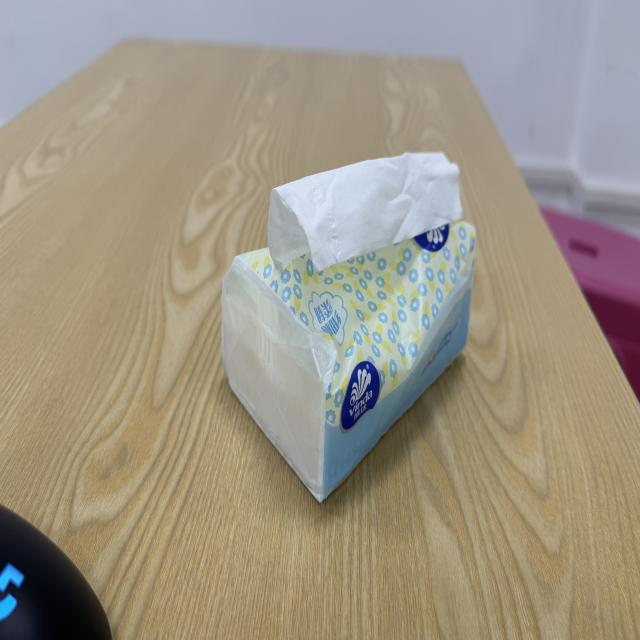tissue: (223, 222, 474, 500), (268, 154, 461, 270)
